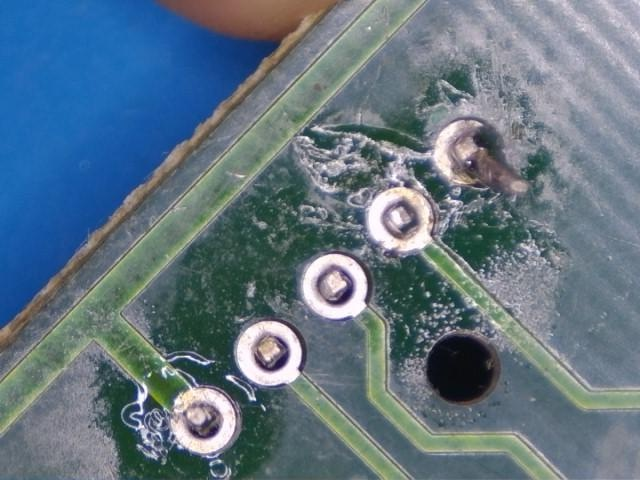pcb_defect: (368, 187, 434, 251), (434, 120, 499, 183)
